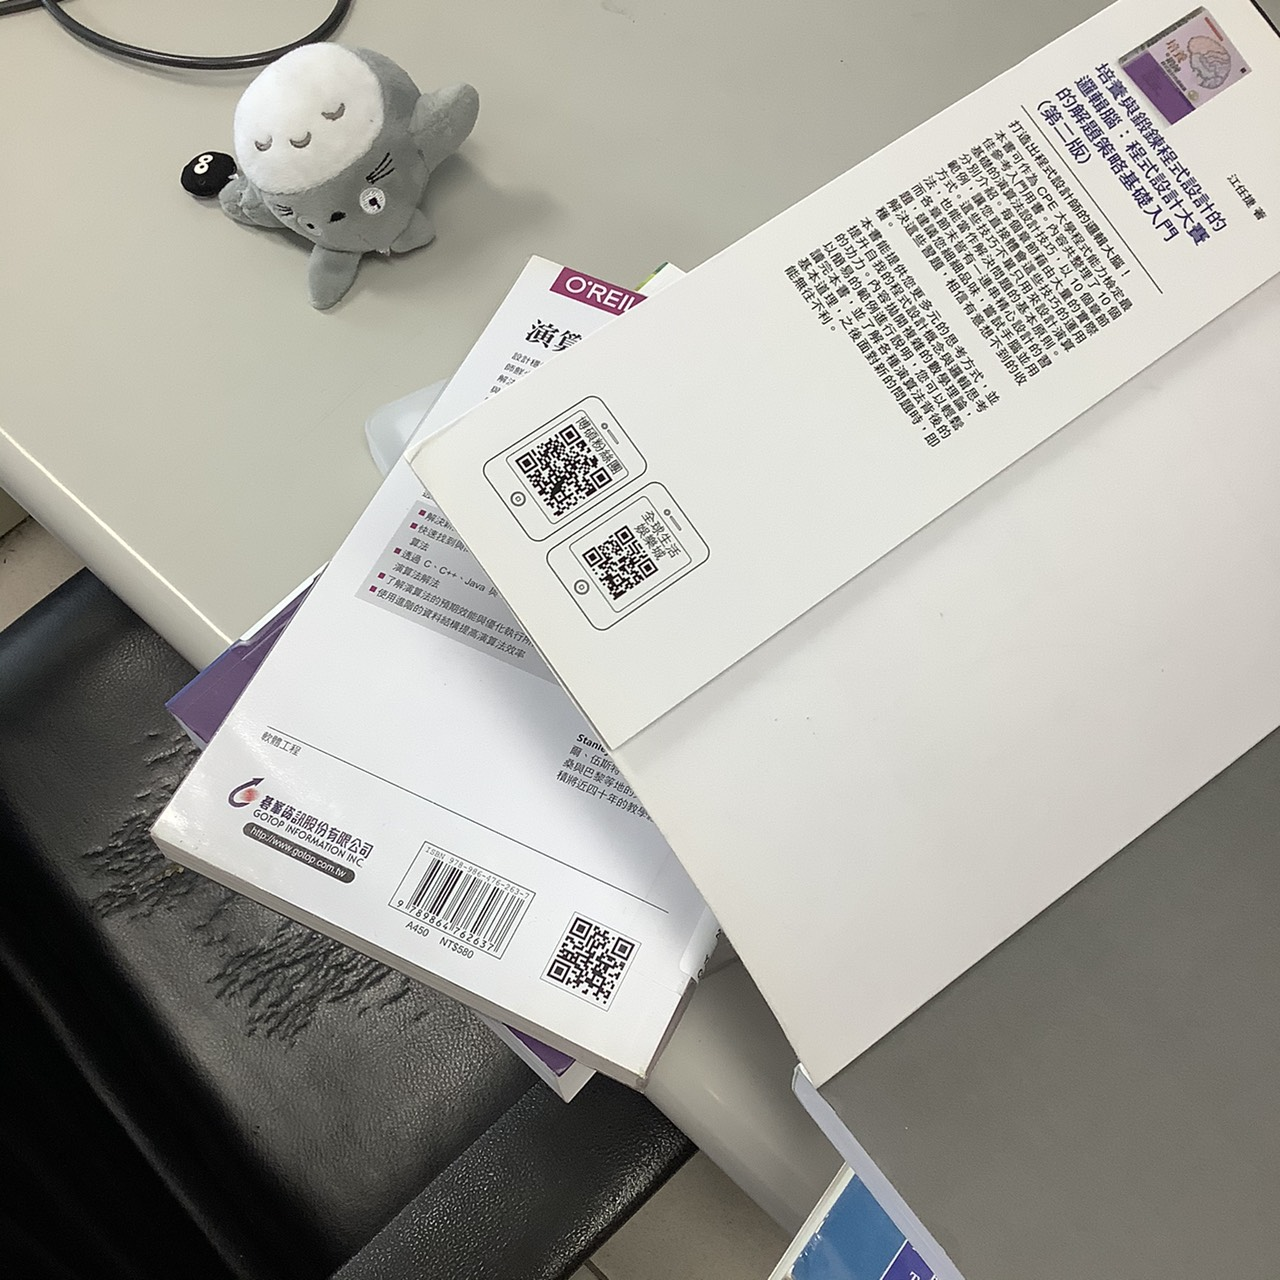QRCode: (515, 424, 610, 520), (549, 915, 635, 1005), (578, 524, 660, 604)
